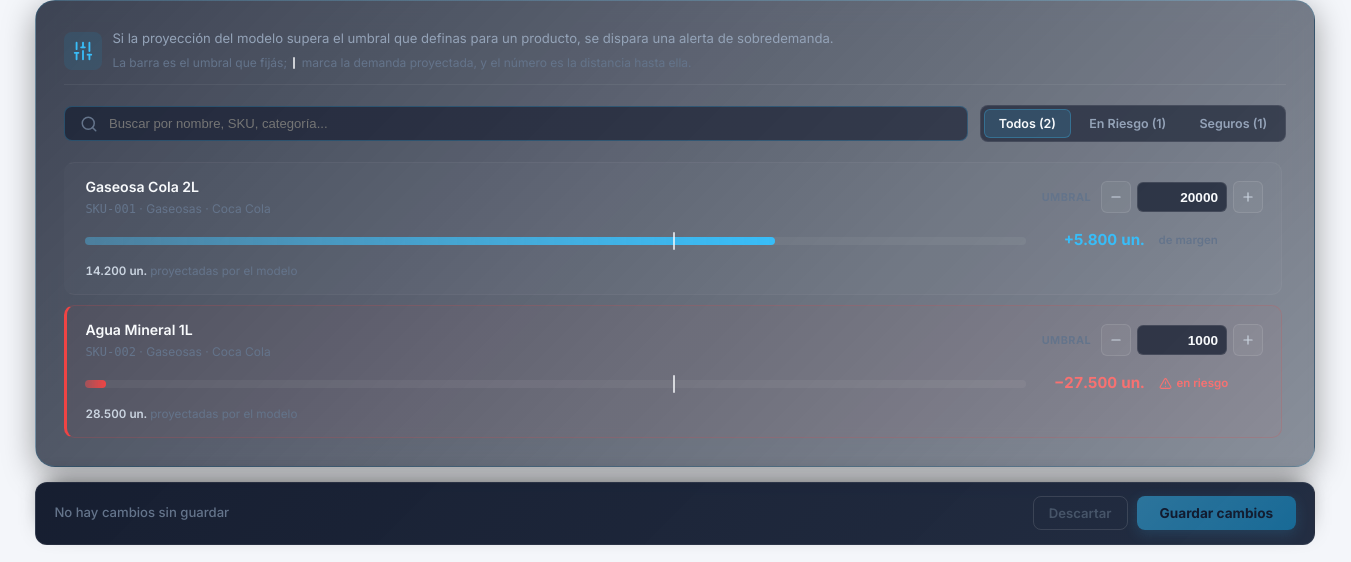
Test case: SettingsView › filtro por estado de riesgo › muestra solo los productos fuera de riesgo al filtrar
This screenshot has width=1351, height=562.
Expected: the text "Gaseosa Cola 2L" is shown, x1=85 y1=178 x2=199 y2=195
Click the button "Seguros (1)" at (1233, 124), box x1=1185 y1=110 x2=1282 y2=138
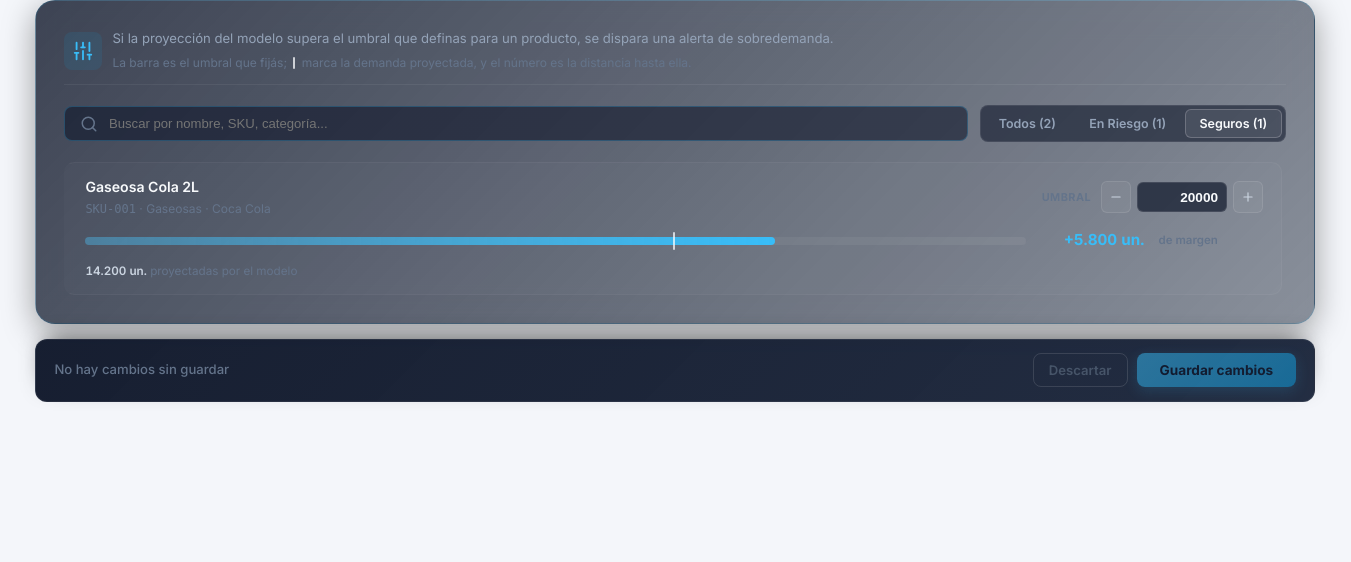
Expected: the text "Gaseosa Cola 2L" is shown, x1=85 y1=178 x2=199 y2=195
Now the text "Agua Mineral 1L" is gone
